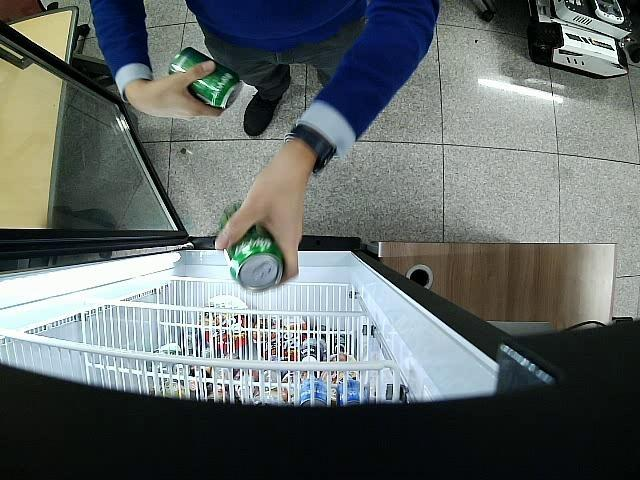12_chilsungCider: (219, 201, 285, 293), (168, 46, 244, 110)
